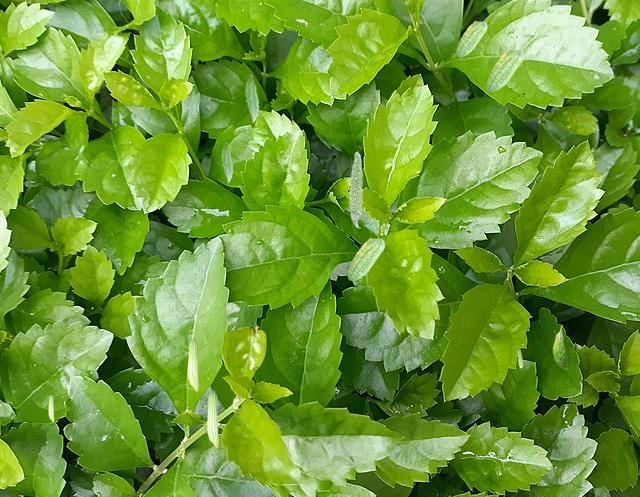ampalaya: (486, 48, 524, 92), (347, 237, 385, 281), (455, 20, 487, 57), (348, 150, 363, 228), (206, 390, 219, 448), (552, 324, 568, 370), (245, 73, 259, 123), (187, 336, 199, 392), (221, 141, 233, 183), (48, 393, 54, 422), (516, 348, 523, 368)
